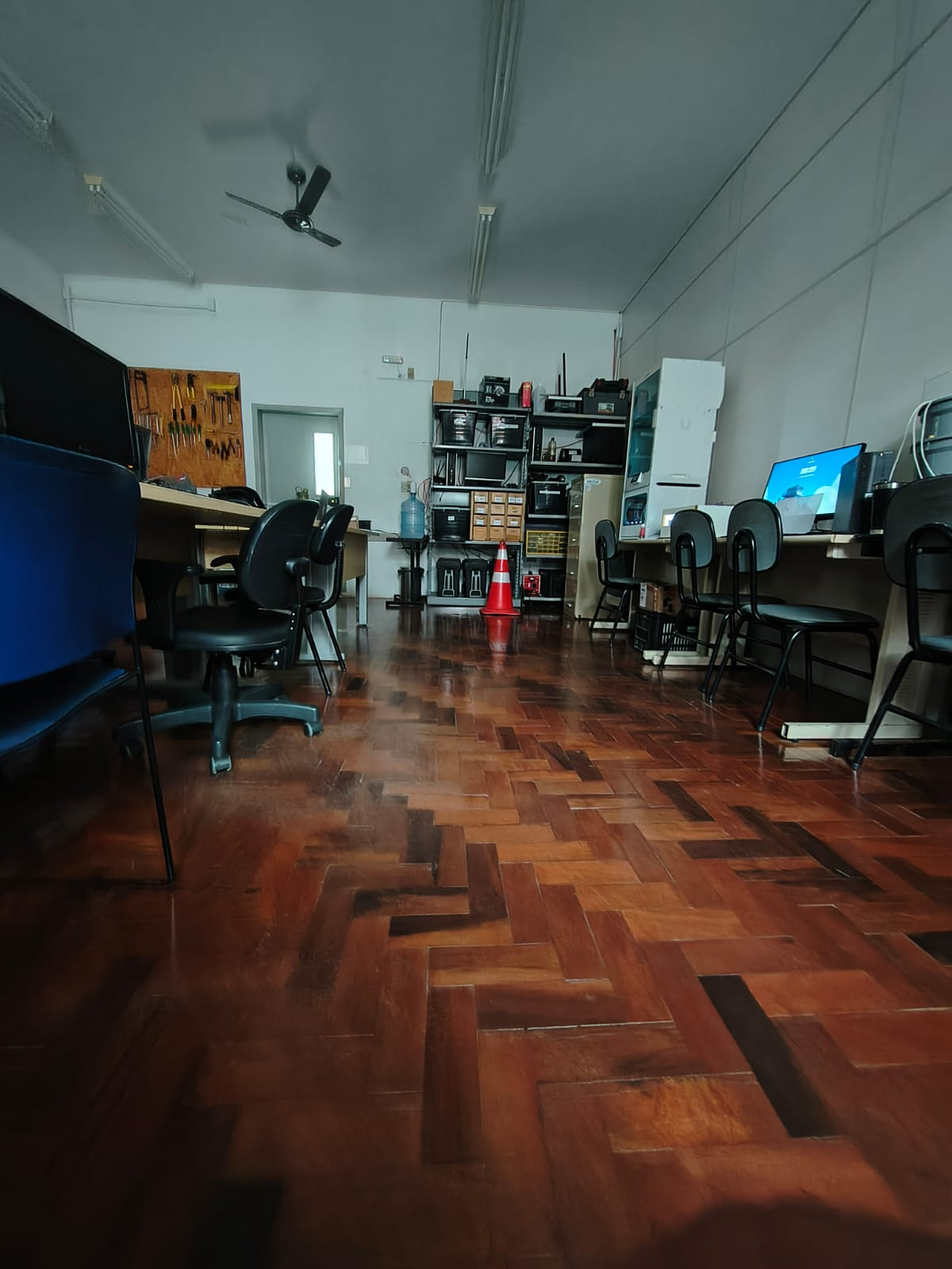cone: (481, 529, 525, 620)
